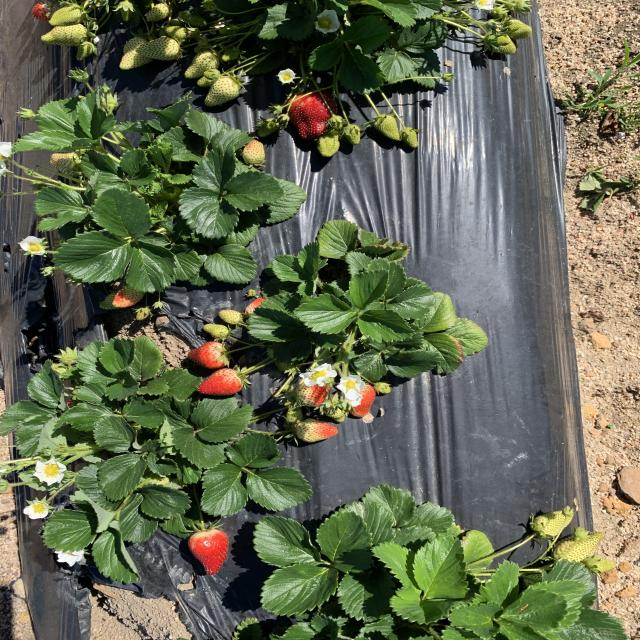unripe: (282, 91, 340, 139), (187, 529, 236, 577), (194, 367, 249, 397), (186, 337, 233, 371), (340, 383, 380, 416), (31, 4, 63, 20)
